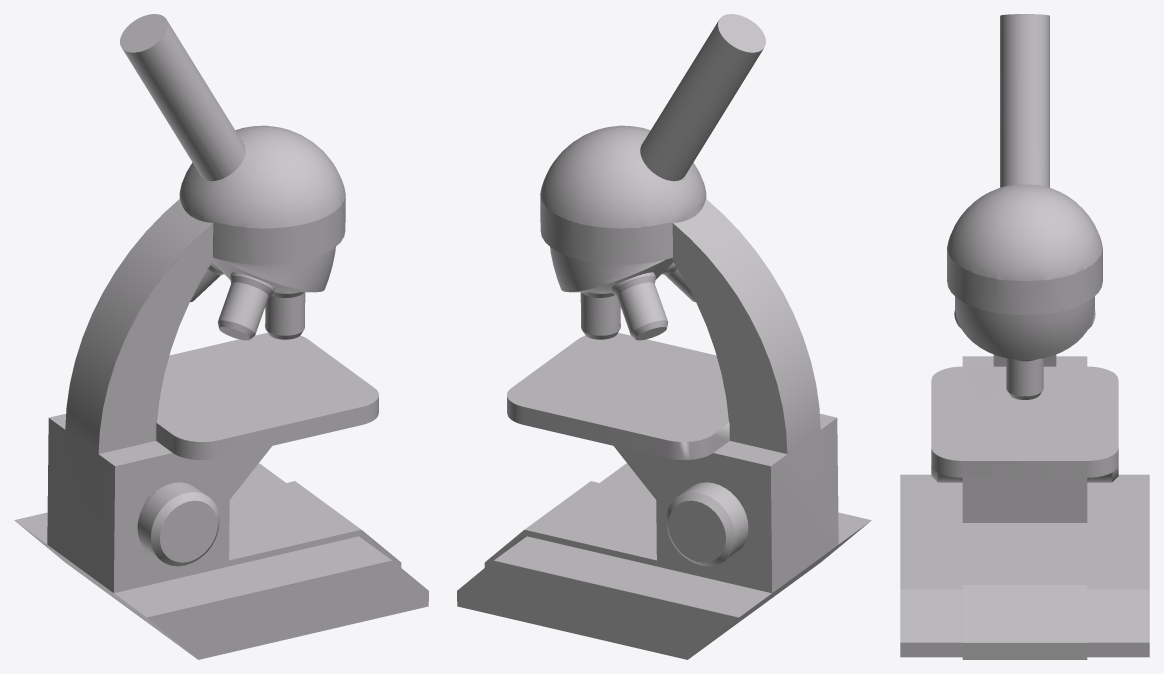
Rendered from microscope.fbx.
3 views of the same model, side by side, from view 1: azimuth 30°, elevation 25°; view 2: azimuth 150°, elevation 25°; view 3: azimuth 270°, elevation 25° (orthographic). The views are drawn at different scales.
Visible parts, largest first — view 1: node_id68; view 2: node_id68; view 3: node_id68.
Part boxes in pixels (x1=…): node_id68: x1=14, y1=14, x2=428, y2=659; node_id68: x1=457, y1=14, x2=871, y2=659; node_id68: x1=900, y1=14, x2=1149, y2=659.
Size of the model in its own units: 0.3548 by 0.6948 by 0.2842.
1 material, 1 textured.
